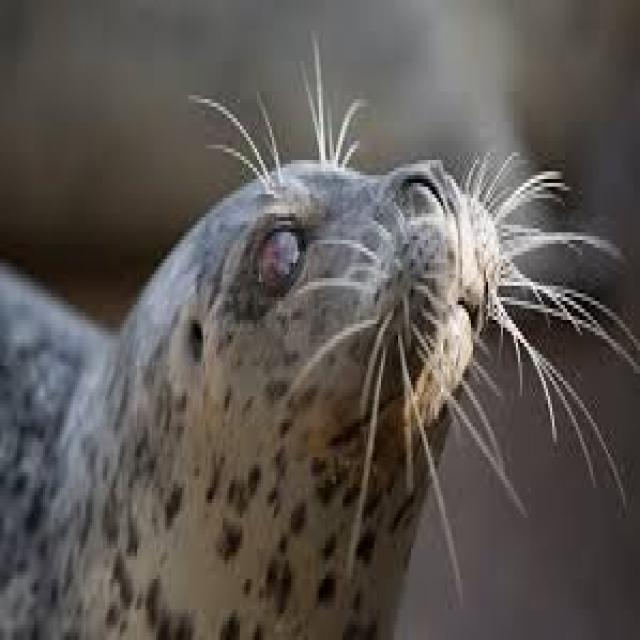seal: (0, 46, 616, 636)
